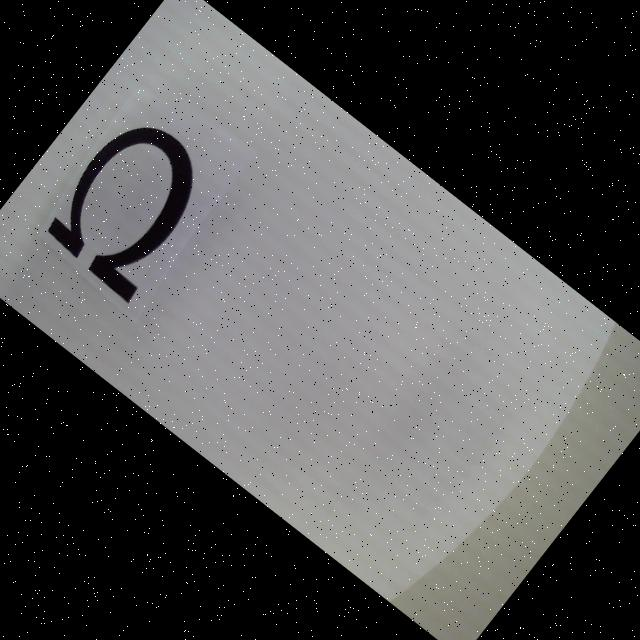OMEGA: (36, 106, 227, 304)
